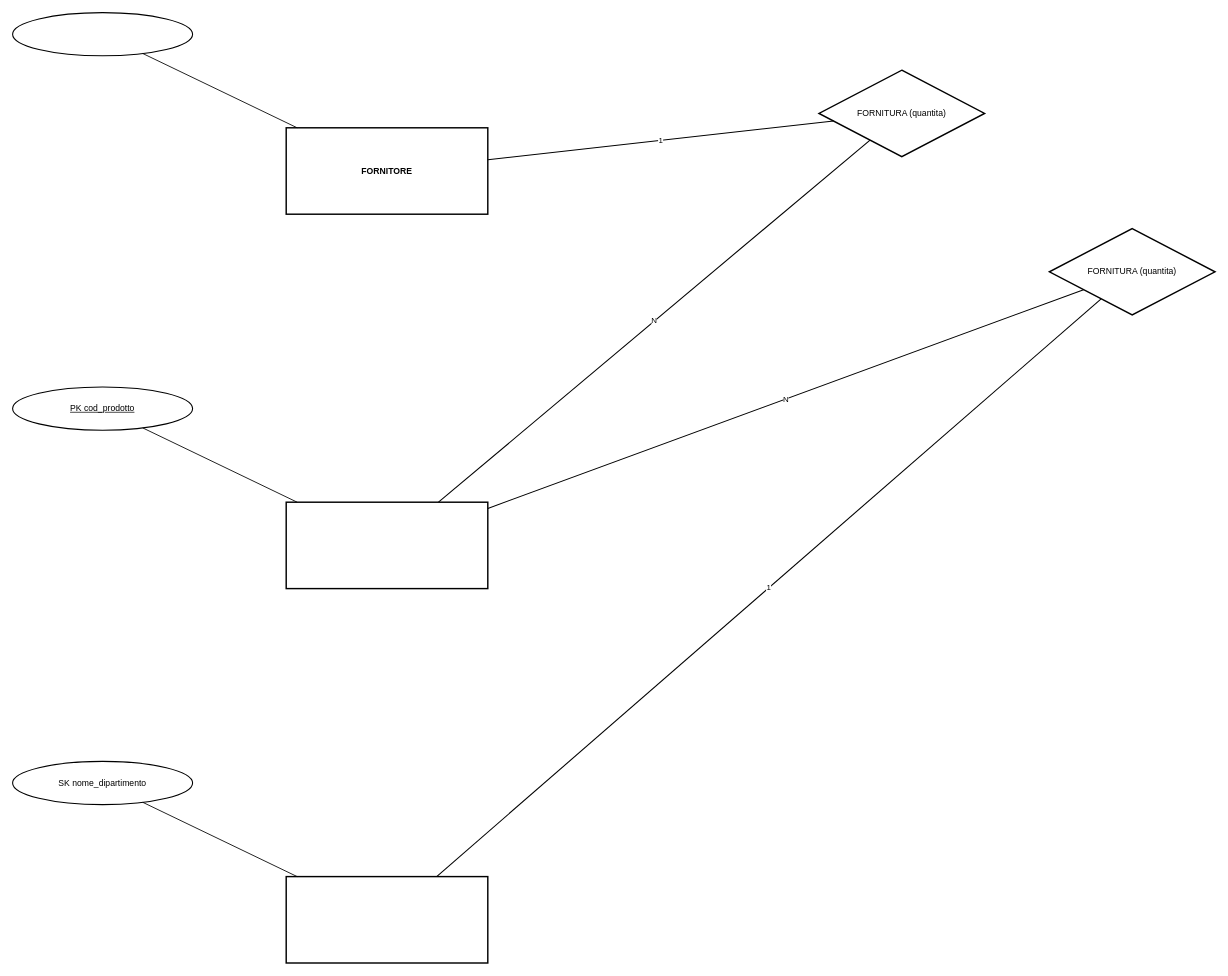
Some shapes in this 1228 by 976 pixel diagram are drawn without their labels. Here are the shapes that lost their labels. From the top down, the box of each, then its label:
(12, 12, 193, 56): PK piva
(285, 501, 488, 589): PRODOTTO
(285, 876, 488, 963): DIPARTIMENTO
